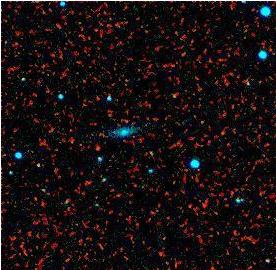star: (82, 132, 112, 162)
